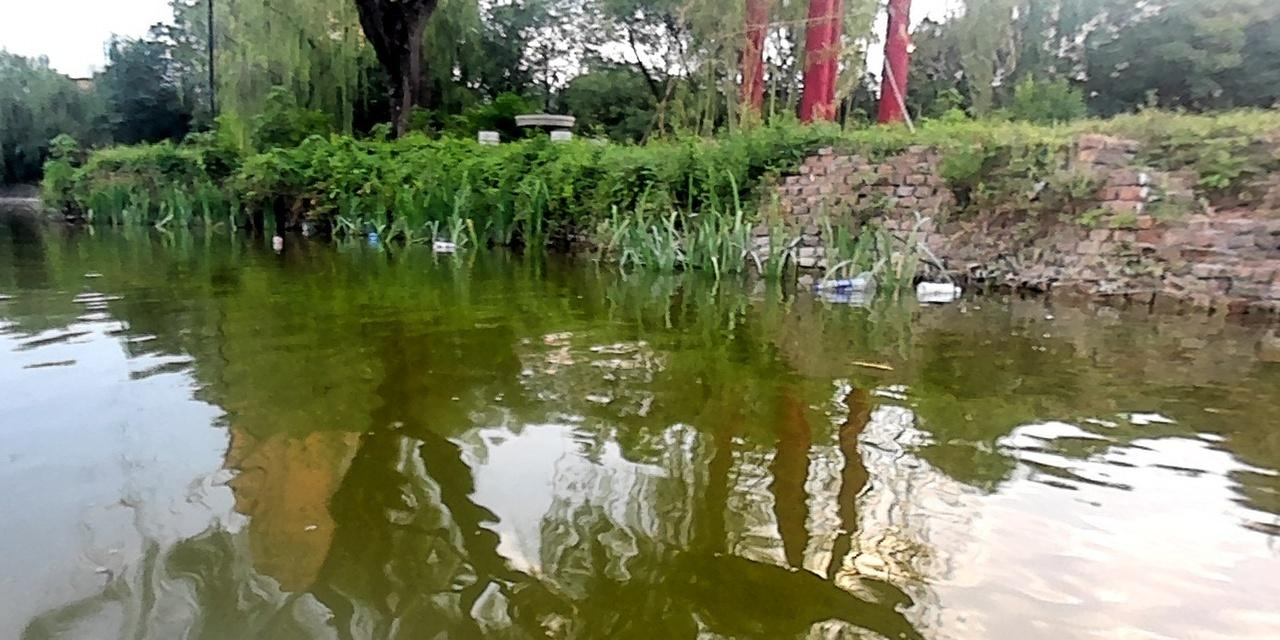bottle: (807, 275, 869, 298), (912, 280, 967, 301)
